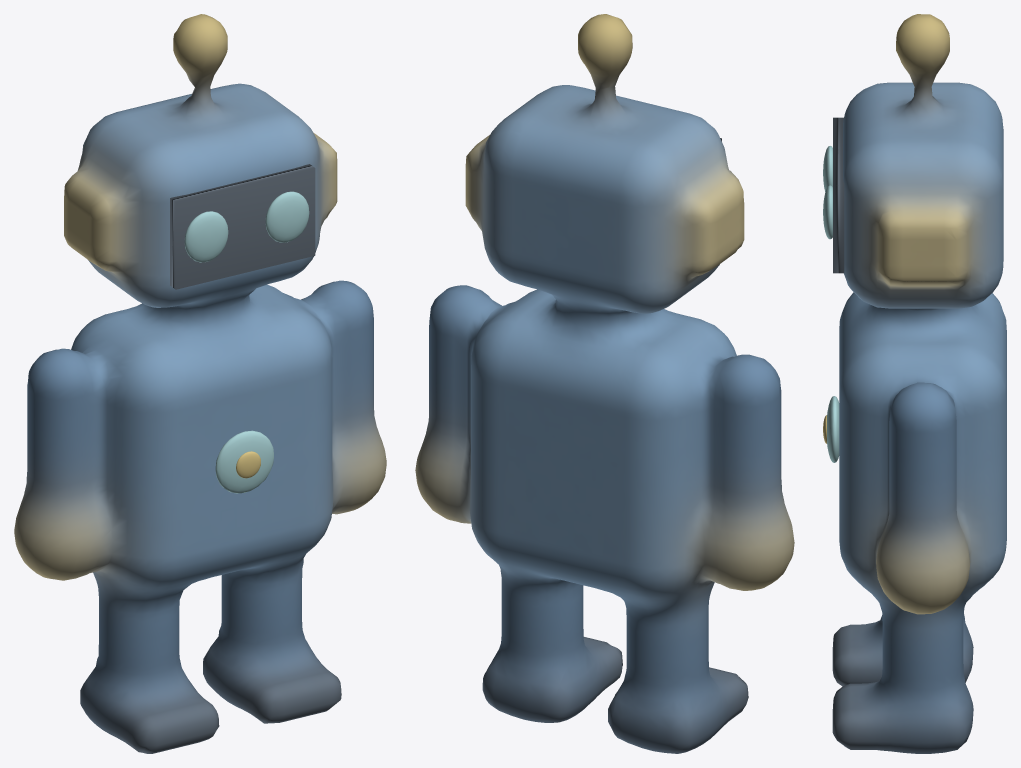
Rendered from robot.glb.
3 renders of one model, left to right at view 1: azimuth 30°, elevation 25°; view 2: azimuth 150°, elevation 25°; view 3: azimuth 270°, elevation 25°, orthographic.
Parts seen in each view (by area): view 1: geometry_0; view 2: geometry_0; view 3: geometry_0.
Boxes of the visible parts, box(x1,y1,x2,y2) form: geometry_0: box(14, 14, 386, 753); geometry_0: box(415, 14, 794, 753); geometry_0: box(823, 14, 1006, 753).
Size of the model in its own units: 1.29 by 2.39 by 0.57.
